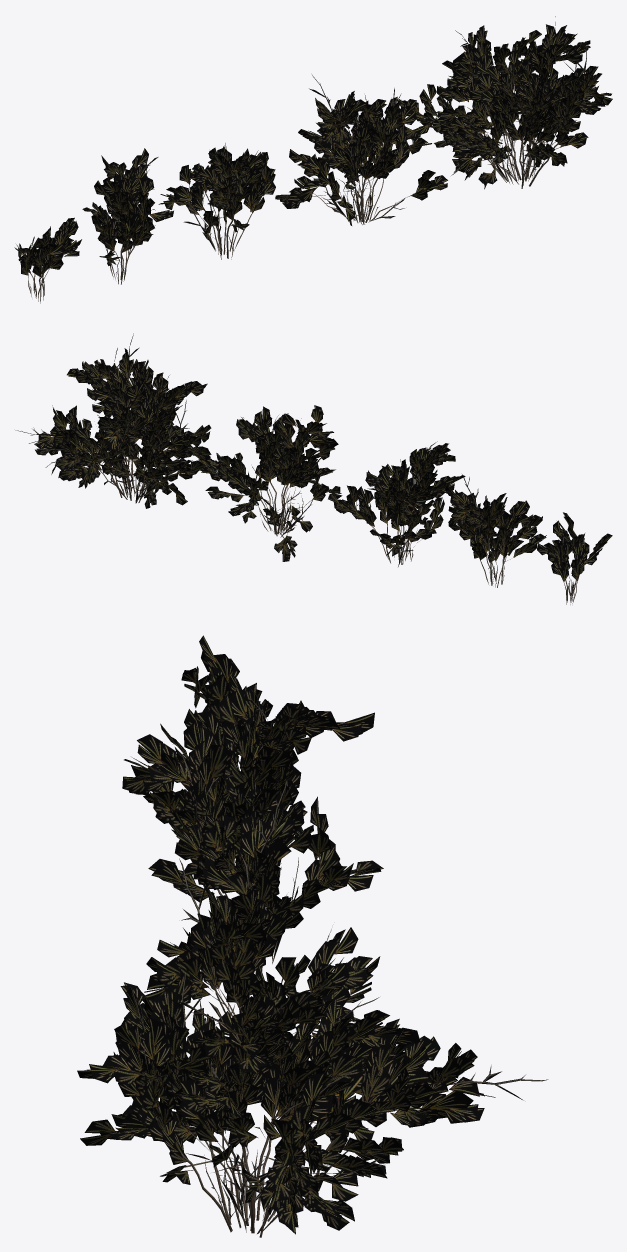
The model's file is rooibos_bush.glb.
The picture shows the model from 3 angles, top to bottom: view 1: azimuth 30°, elevation 25°; view 2: azimuth 150°, elevation 25°; view 3: azimuth 270°, elevation 25°; orthographic projection. The views are drawn at different scales.
Parts seen in each view (by area): view 1: wild_rooibos_bush_a; view 2: wild_rooibos_bush_a; view 3: wild_rooibos_bush_a.
Boxes of the visible parts, bbox=[...] form: wild_rooibos_bush_a: bbox=[14, 16, 612, 303]; wild_rooibos_bush_a: bbox=[15, 333, 612, 604]; wild_rooibos_bush_a: bbox=[77, 635, 548, 1237].
Bounding box in the file's own units: 2.27 × 0.5407 × 0.8434.
2 materials, 2 textured.
